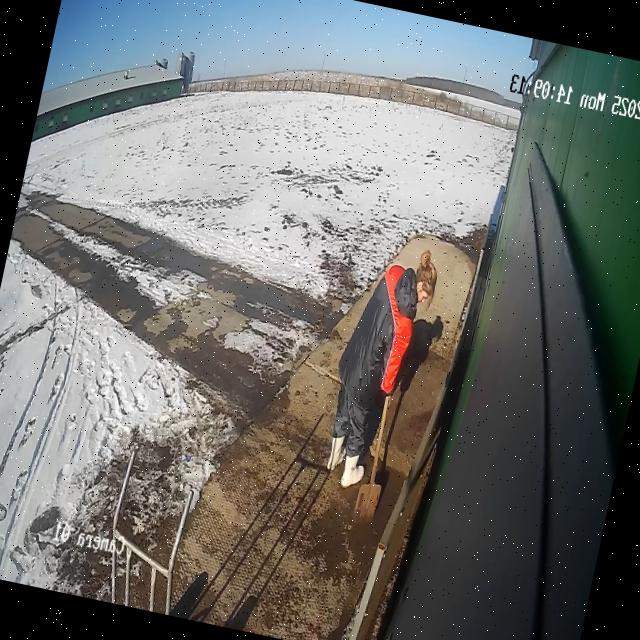Red uniform: (312, 235, 444, 500)
